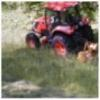tractors: (25, 2, 98, 62)
